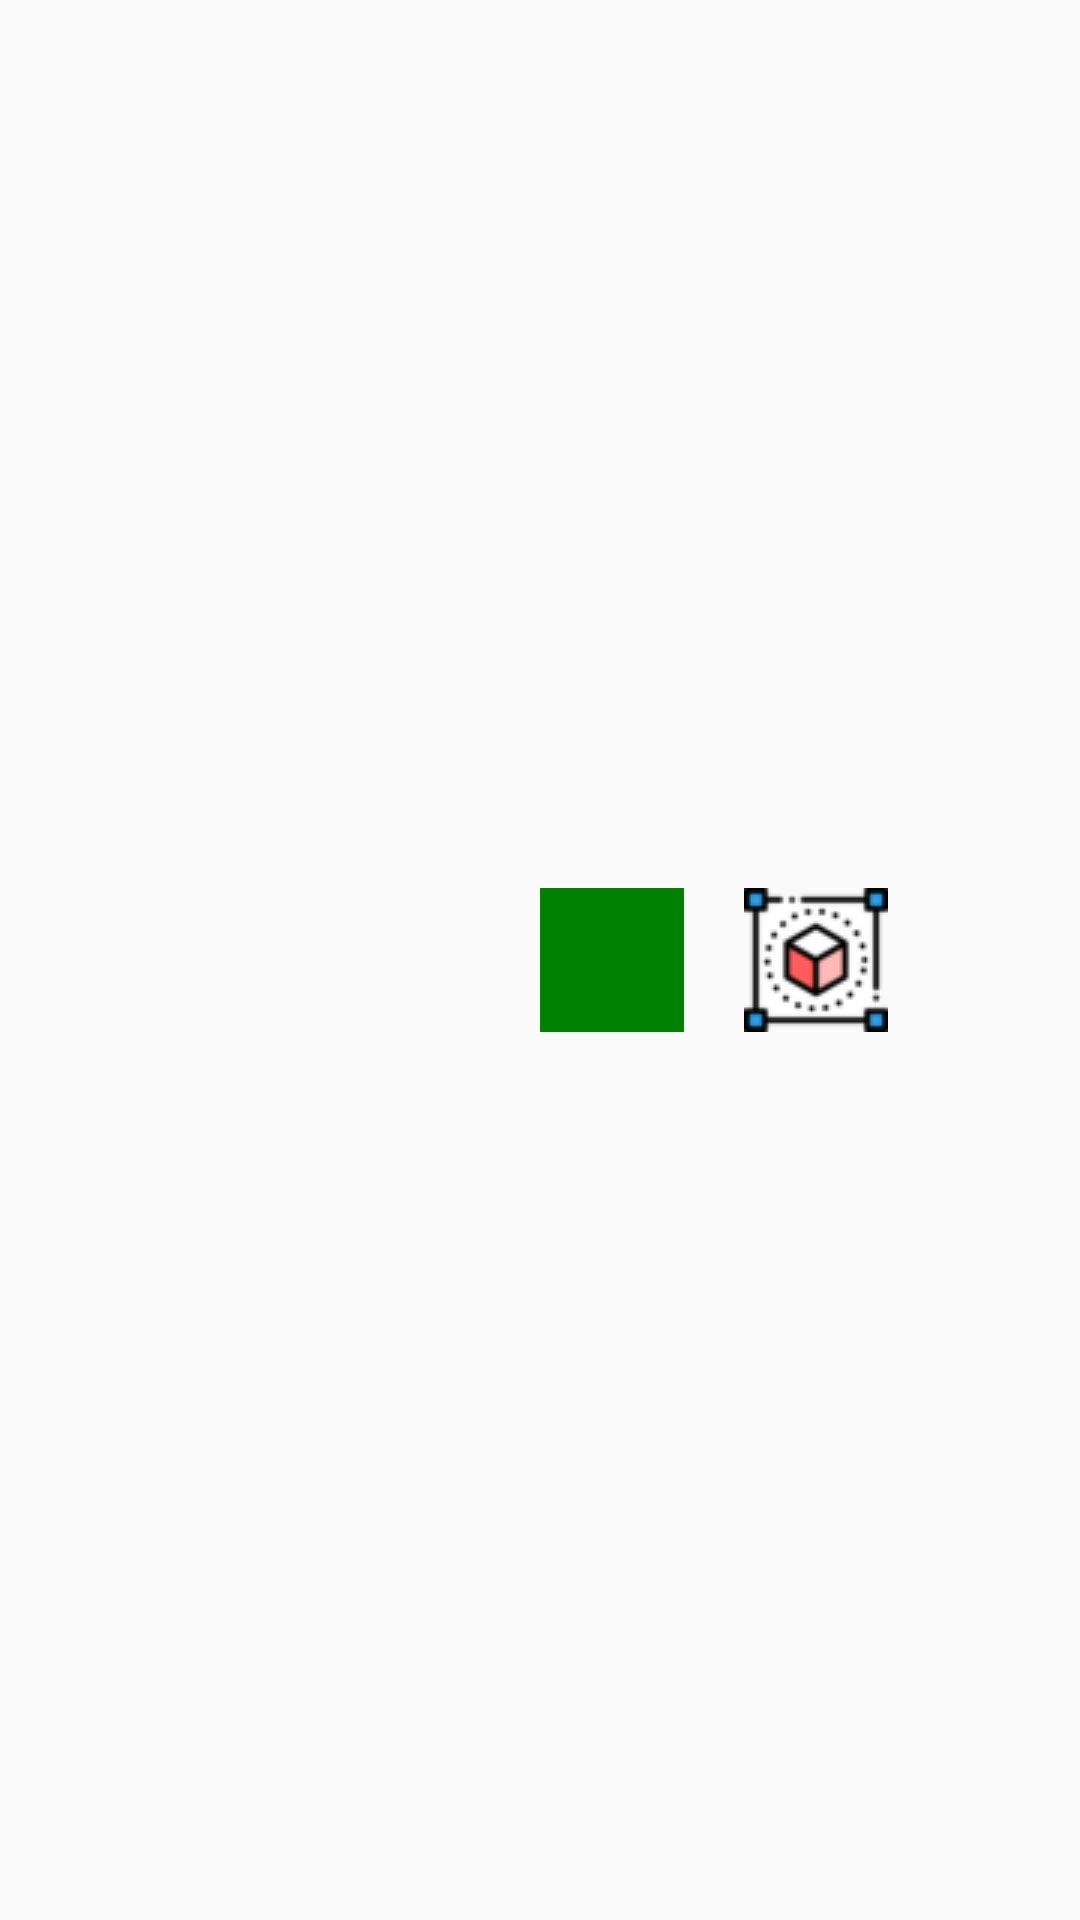

Icons on this 1080px×1920px Android screen, each with the point to tap as (x=x, y=y):
objecticon: (x=816, y=960)
